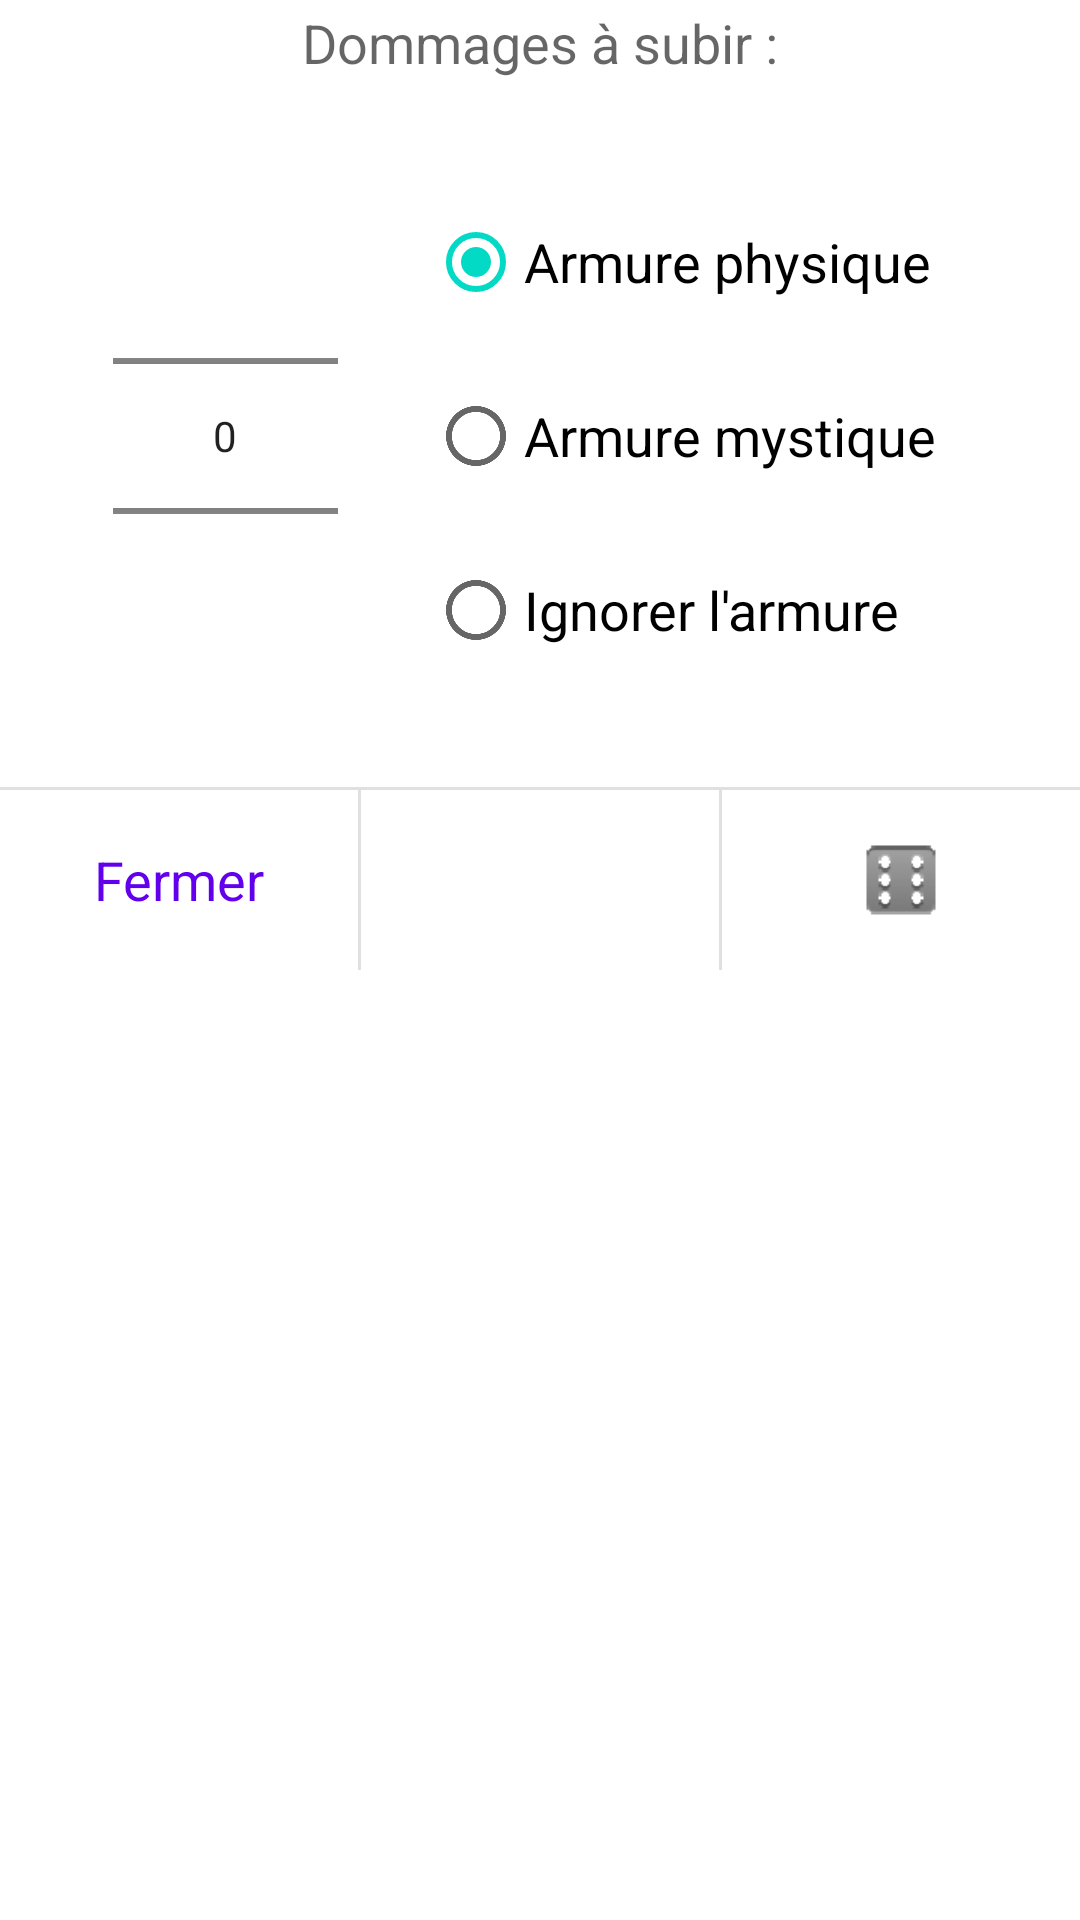

Screen size 1080px x 1920px. Icon name, then its box in pixels as [left=x1, top=y1, right=x2, bottom=y2]:
Lancer les dés: [left=866, top=845, right=936, bottom=915]
